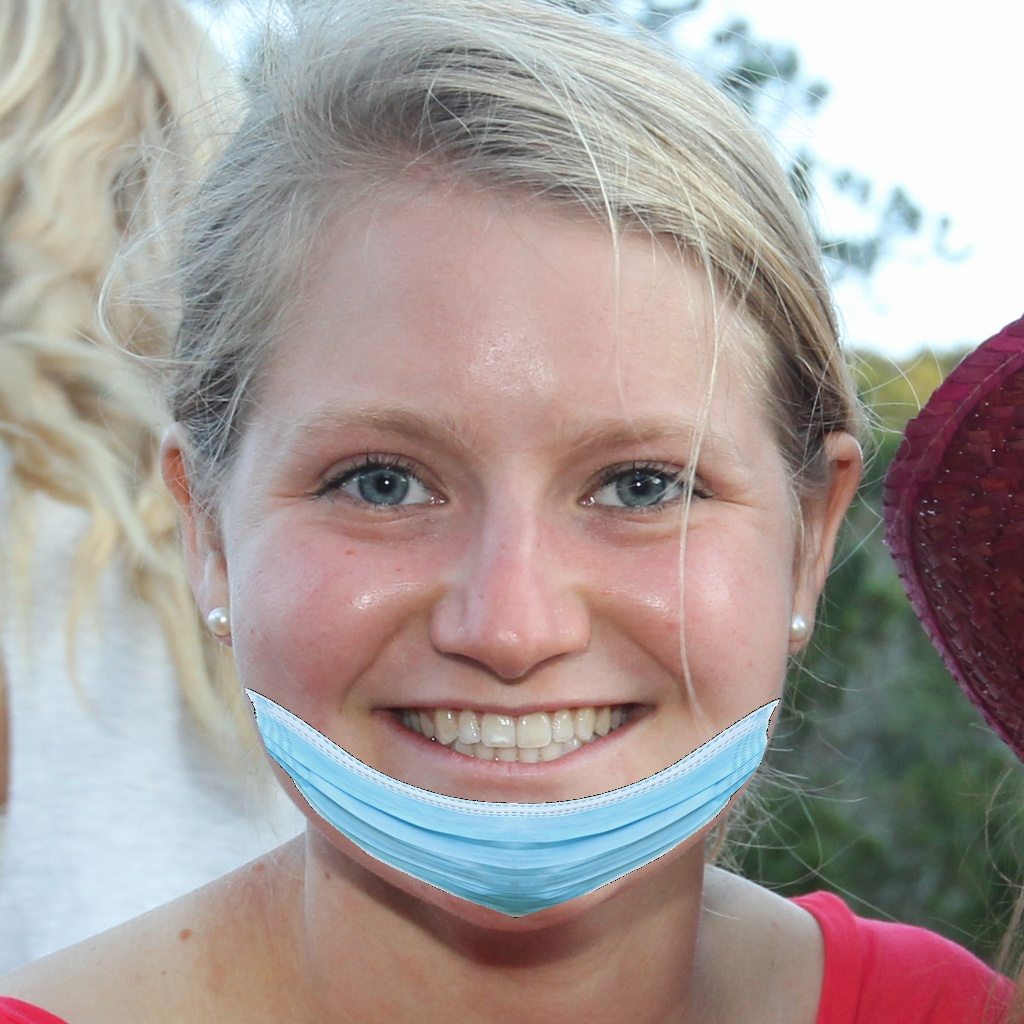mask_weared_incorrect: (213, 376, 812, 936)
